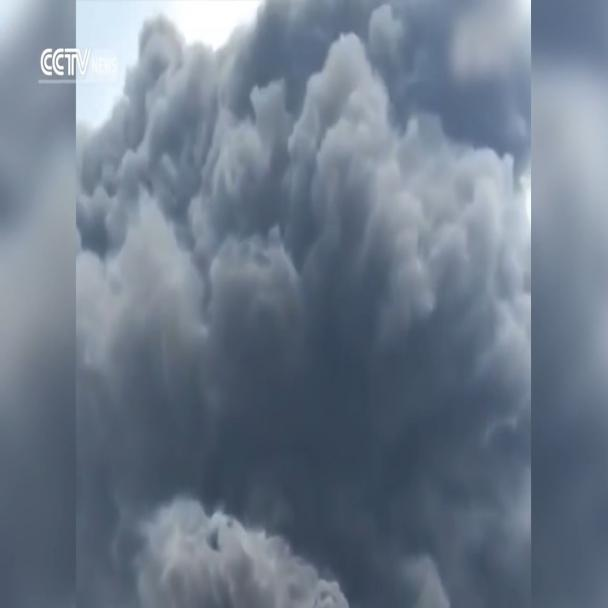smoke: (76, 1, 533, 607)
